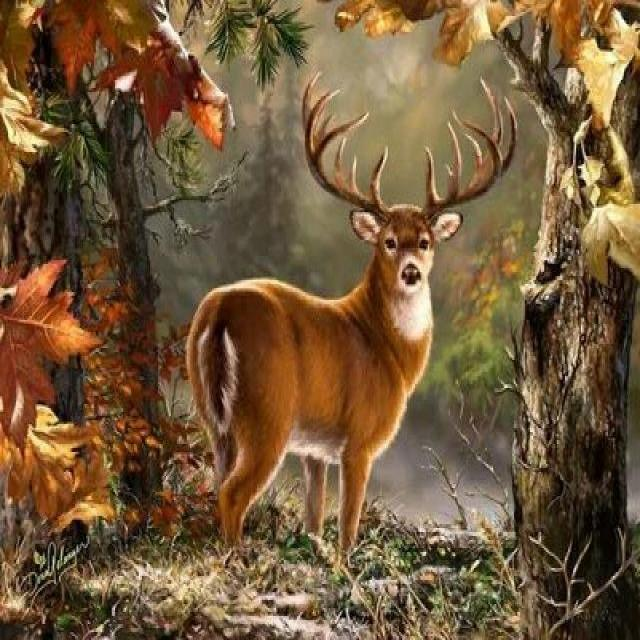deer: (150, 38, 479, 537)
